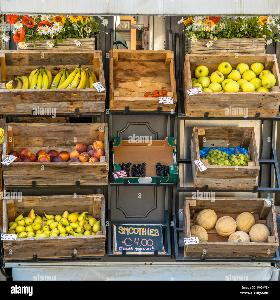apple: (185, 52, 280, 109)
banana: (1, 51, 107, 99)
grape: (190, 117, 268, 187)
melon: (188, 194, 278, 256)
peach: (0, 127, 110, 173)
pear: (1, 189, 112, 250)
strawberry: (113, 54, 171, 102)
